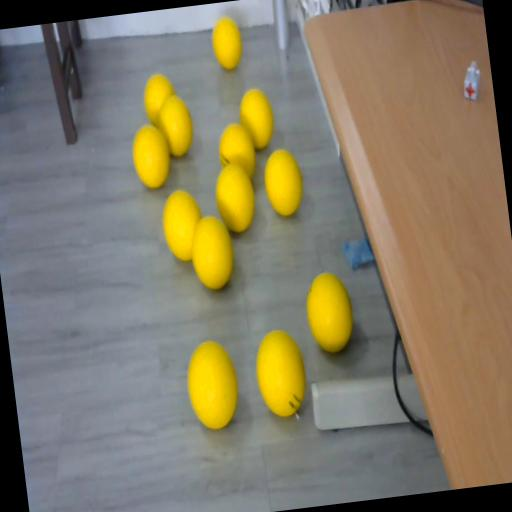FUEL: (250, 326, 312, 421), (182, 336, 242, 432), (302, 268, 356, 354), (186, 212, 238, 292), (212, 160, 260, 234), (260, 146, 306, 218), (128, 122, 174, 190), (156, 92, 196, 158), (237, 86, 277, 152), (210, 14, 244, 71)
